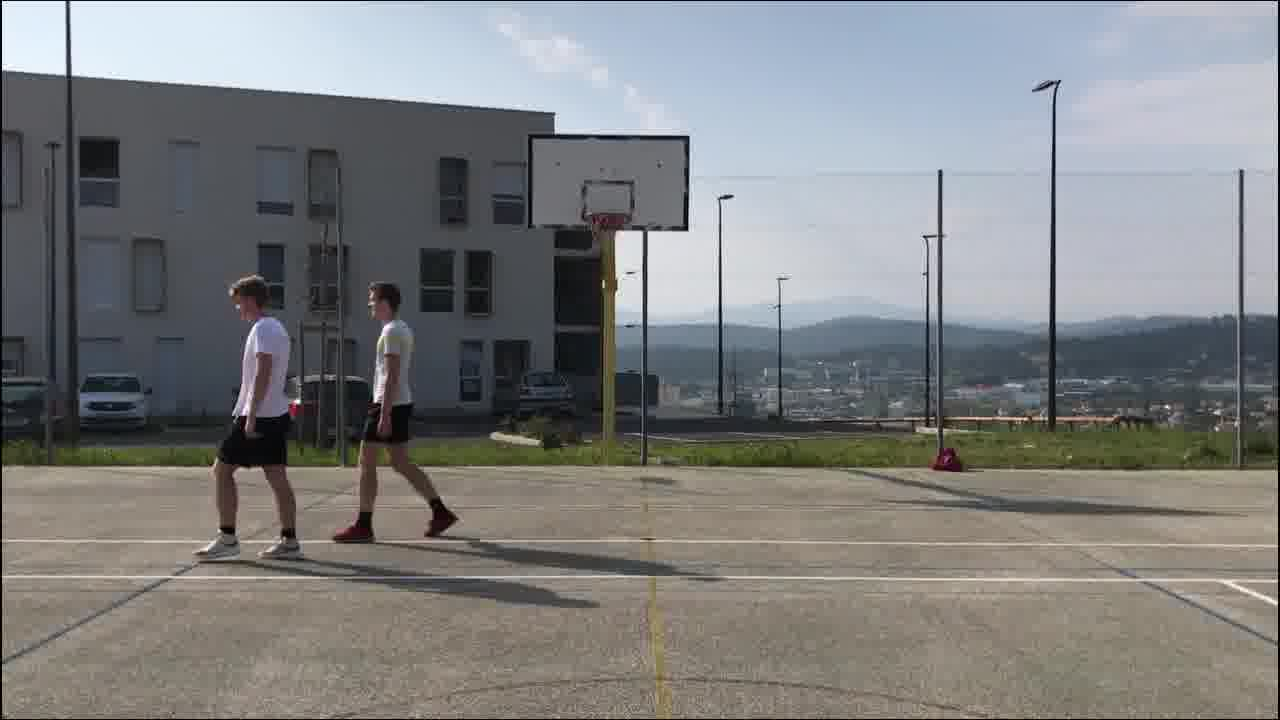jugador: (320, 269, 469, 555)
